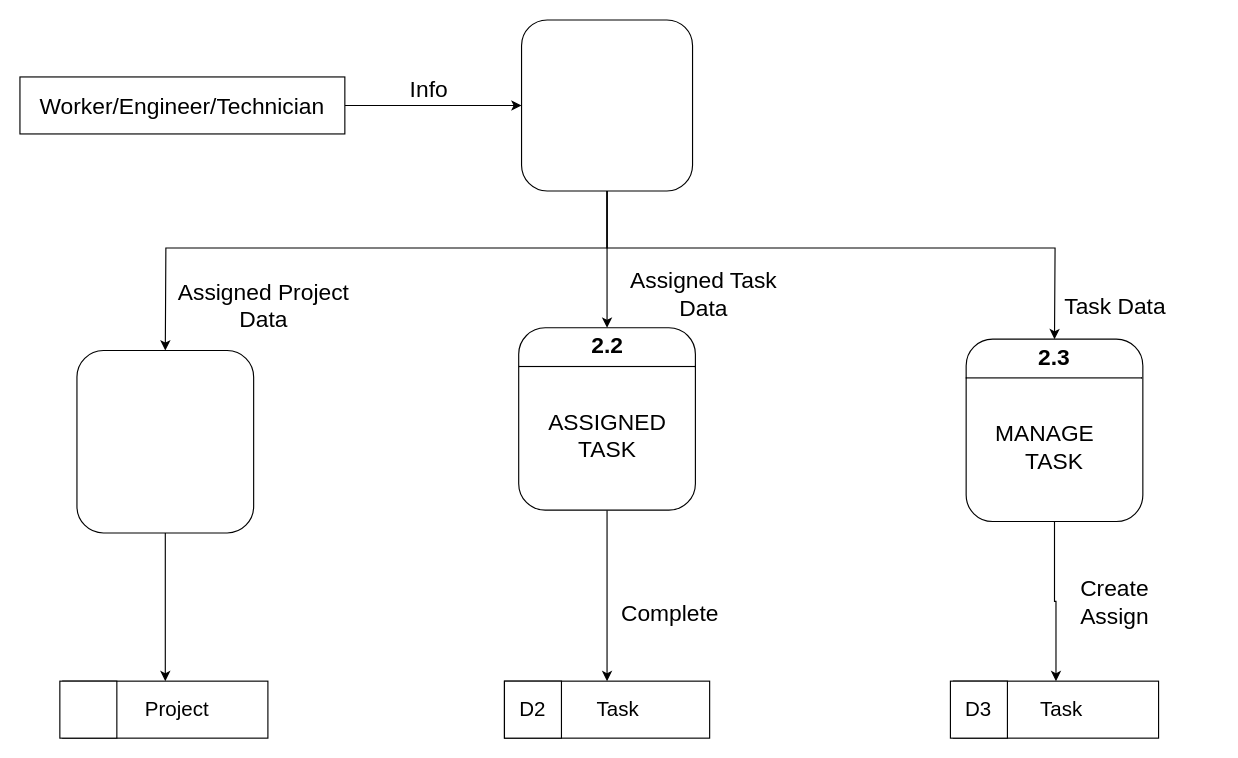
Image size: 1238x758. Some labels were removed from this diagram. The shapes that lost their labels are listed below. From the top down, each one's centre as x and y in pixels, then its label:
At pixel 606 105: "1.1 DASHBOARD".
At pixel 165 441: "2.1 ASSIGNED PROJECT".
At pixel 88 709: "D1".
